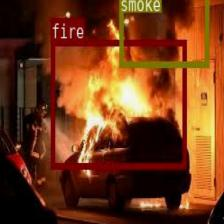fire: (51, 40, 186, 168)
smoke: (118, 0, 208, 66)
